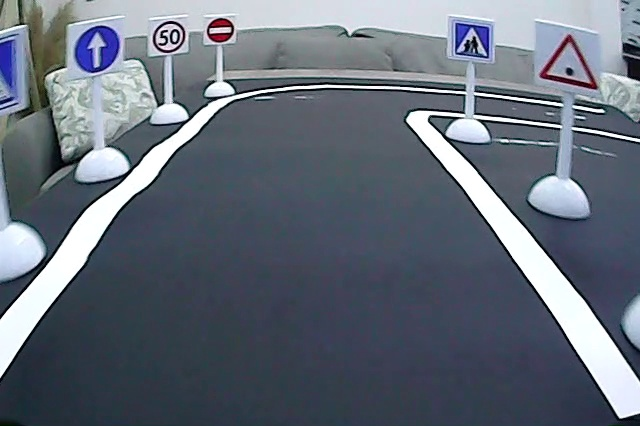do not enter: (205, 15, 236, 44)
green light: (536, 29, 601, 93)
school crossing: (450, 20, 492, 61)
speed limit 50: (151, 19, 187, 55)
